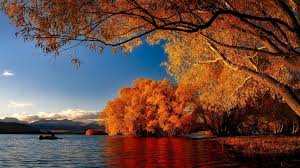lake: (5, 132, 229, 168)
sky: (3, 52, 105, 124)
tree: (56, 2, 294, 140)
